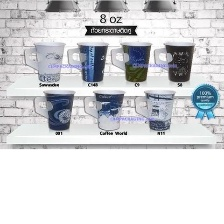paper_cup: (79, 86, 128, 137), (29, 85, 77, 136), (19, 37, 68, 85), (132, 86, 178, 137), (106, 38, 155, 84), (151, 38, 198, 85), (63, 39, 112, 84)
